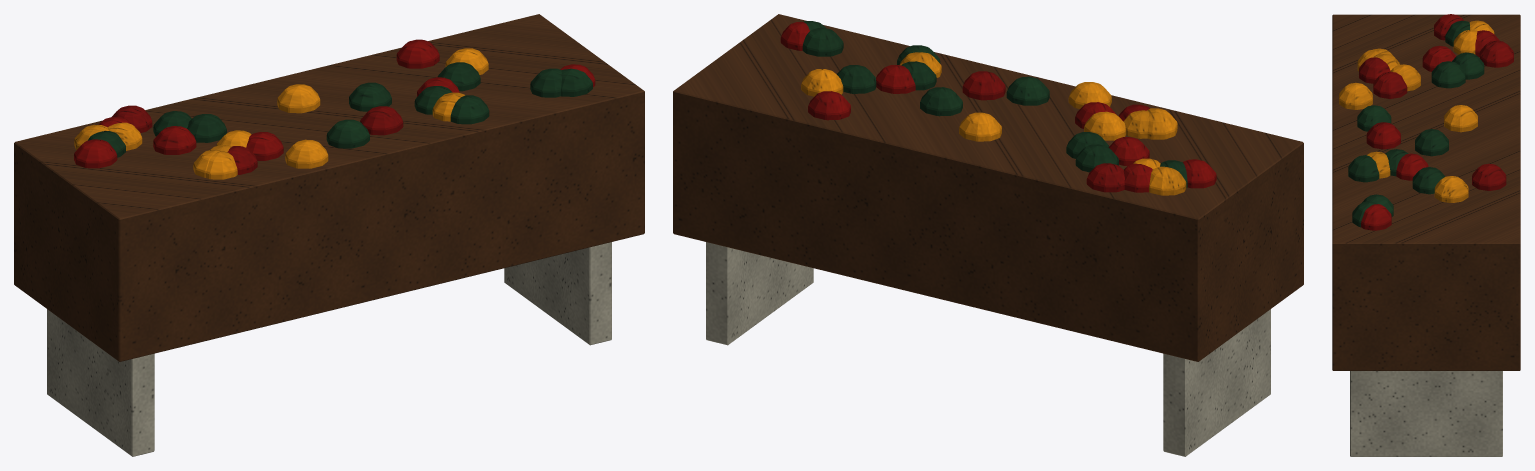
The model's file is PROP-F7CB7C9D706C_lod1.glb.
The picture shows the model from 3 angles, left to right: view 1: azimuth 30°, elevation 25°; view 2: azimuth 150°, elevation 25°; view 3: azimuth 270°, elevation 25°; orthographic projection. The views are drawn at different scales.
Visible parts, largest first — view 1: produce_bin.001, stand_legs.001, produce_fruit.005, produce_fruit.003, produce_fruit.004; view 2: produce_bin.001, stand_legs.001, produce_fruit.003, produce_fruit.005, produce_fruit.004; view 3: produce_bin.001, stand_legs.001, produce_fruit.003, produce_fruit.005, produce_fruit.004.
Boxes of the visible parts, x1,y1,x2,y2 form: produce_bin.001: (14,14,644,361); stand_legs.001: (47,242,611,456); produce_fruit.005: (88,62,592,157); produce_fruit.003: (74,39,595,174); produce_fruit.004: (74,48,488,179); produce_bin.001: (673,14,1303,361); stand_legs.001: (706,242,1270,456); produce_fruit.003: (780,22,1216,192); produce_fruit.005: (802,21,1187,187); produce_fruit.004: (801,52,1186,195); produce_bin.001: (1332,14,1520,370); stand_legs.001: (1350,371,1502,456); produce_fruit.003: (1359,14,1513,230); produce_fruit.005: (1348,20,1484,227); produce_fruit.004: (1339,20,1494,202).
Bounding box in the file's own units: 2.3 × 1.13 × 0.8.
5 materials, 5 textured.
